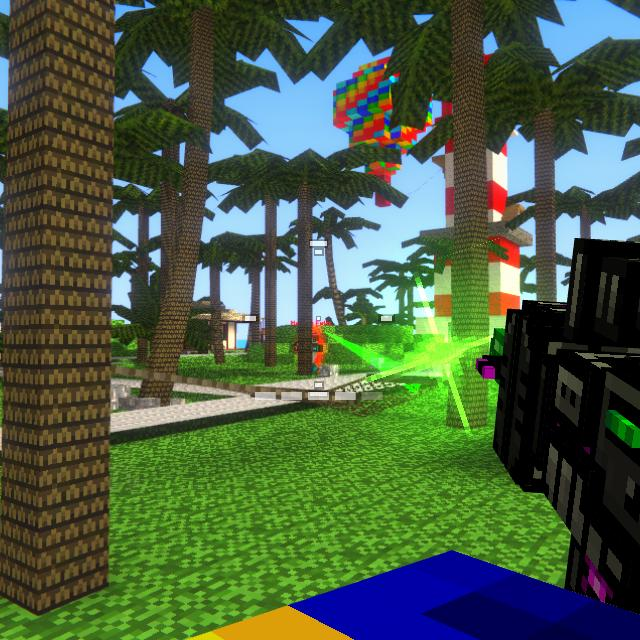Enemy: (312, 333, 323, 374)
